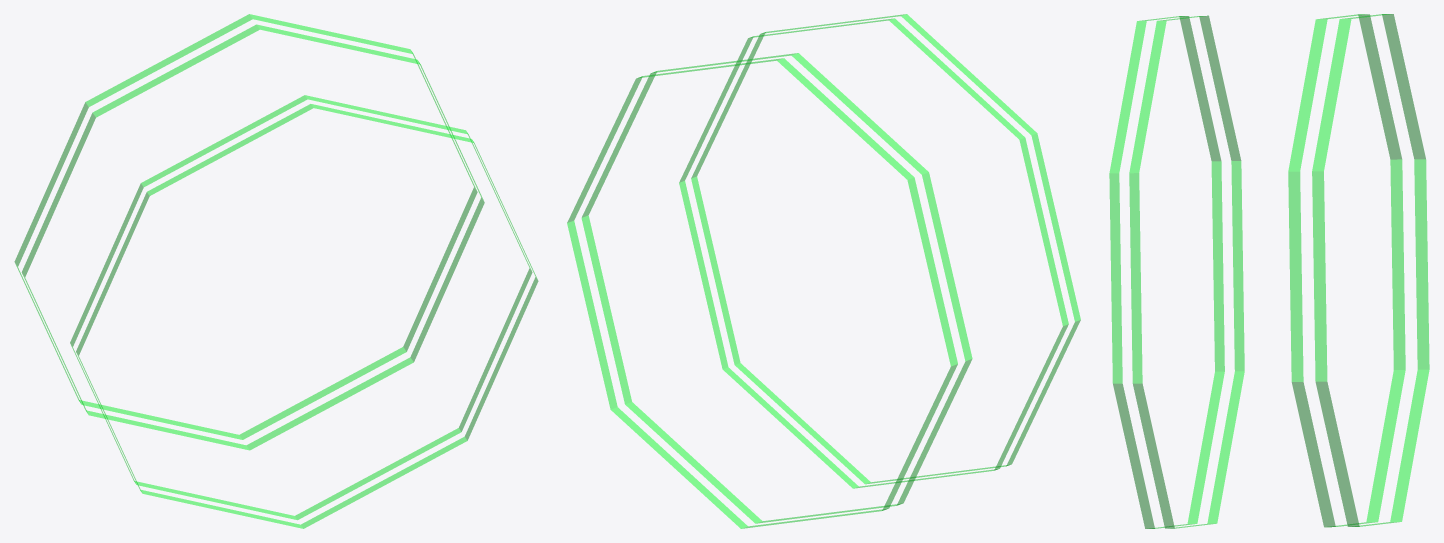
Rendered from ZXWm_052_artillery_t1_buff04.FBX.
3 views of the same model, side by side, from view 1: azimuth 30°, elevation 25°; view 2: azimuth 150°, elevation 25°; view 3: azimuth 270°, elevation 25° (orthographic). The views are drawn at different scales.
Parts seen in each view (by area): view 1: BUFF_04; view 2: BUFF_04; view 3: BUFF_04.
Boxes of the visible parts, x1,y1,x2,y2 form: BUFF_04: (14, 14, 538, 528); BUFF_04: (567, 14, 1080, 528); BUFF_04: (1109, 14, 1429, 528).
Bounding box in the file's own units: 66.73 × 65.28 × 36.77.
